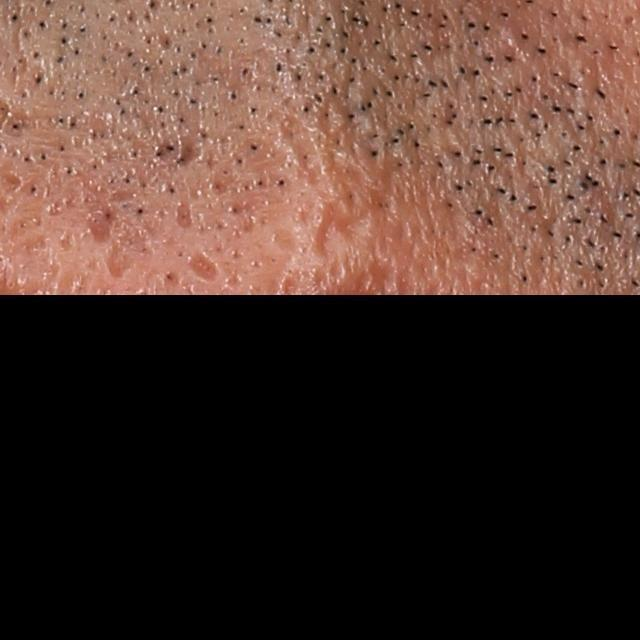atrophic_scar: (318, 201, 373, 252), (81, 206, 115, 235), (106, 243, 135, 277), (188, 249, 214, 282), (174, 196, 194, 231)
